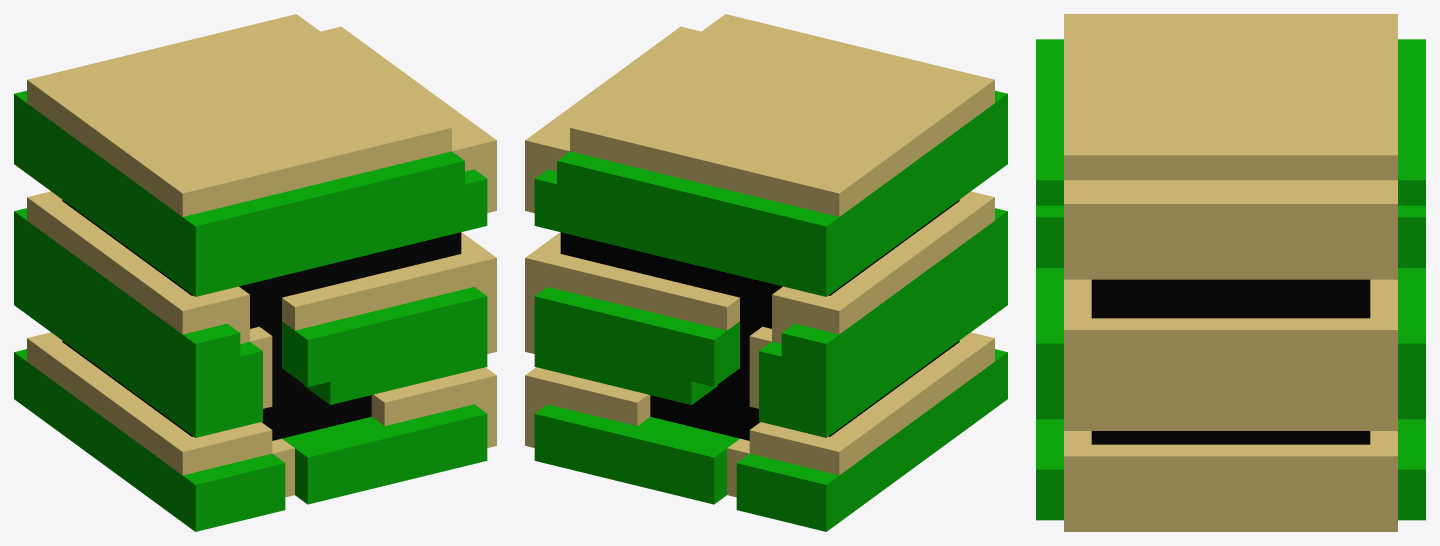
Rendered from br-c-brick-green.fbx.
3 renders of one model, left to right at view 1: azimuth 30°, elevation 25°; view 2: azimuth 150°, elevation 25°; view 3: azimuth 270°, elevation 25°, orthographic. The views are drawn at different scales.
Visible parts, largest first — view 1: shadow, highlight, base; view 2: shadow, highlight, base; view 3: highlight, shadow, base.
Boxes of the visible parts, <box> form: shadow: <box>14,90,487,531</box>; highlight: <box>27,14,496,497</box>; base: <box>62,200,461,440</box>; shadow: <box>534,90,1007,531</box>; highlight: <box>525,14,994,497</box>; base: <box>560,200,959,440</box>; highlight: <box>1064,14,1397,531</box>; shadow: <box>1036,39,1425,520</box>; base: <box>1091,279,1370,444</box>.
Bounding box in the file's own units: 87.5 × 87.5 × 87.5.
